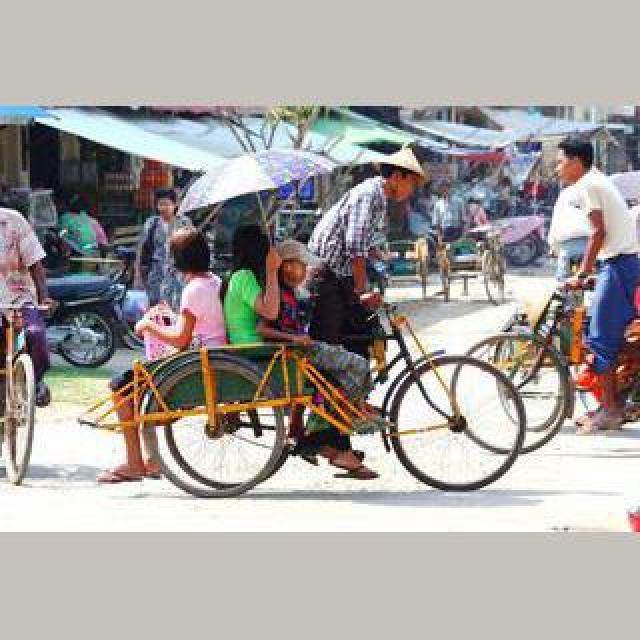Emergency Vehicles-Bike: (44, 266, 132, 366)
MC-Bike: (250, 238, 372, 470), (546, 138, 640, 428), (306, 150, 432, 312), (136, 230, 226, 356), (224, 222, 274, 346), (272, 236, 314, 346)
Person: (106, 310, 516, 494), (466, 278, 638, 452), (2, 302, 44, 486)
